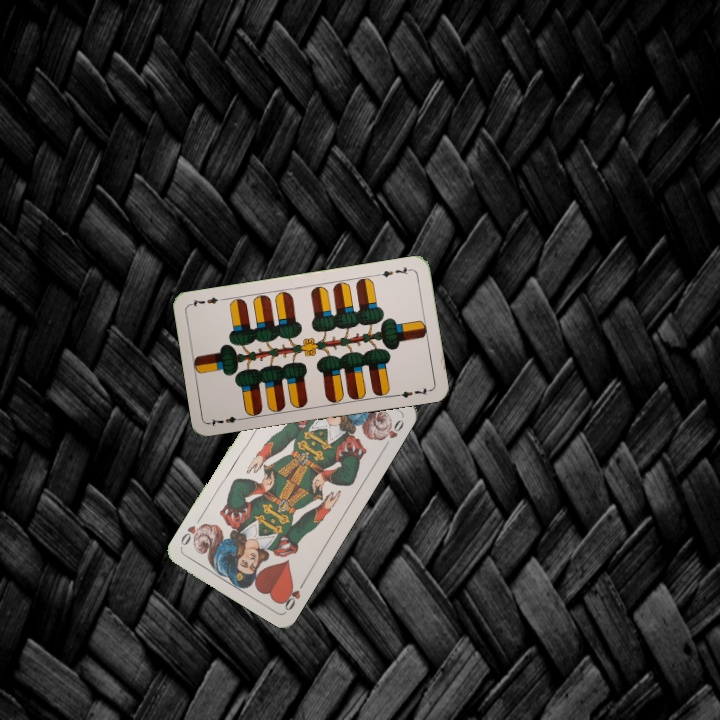E7: (373, 263, 414, 280), (206, 412, 247, 429)
HO: (278, 577, 308, 613)
